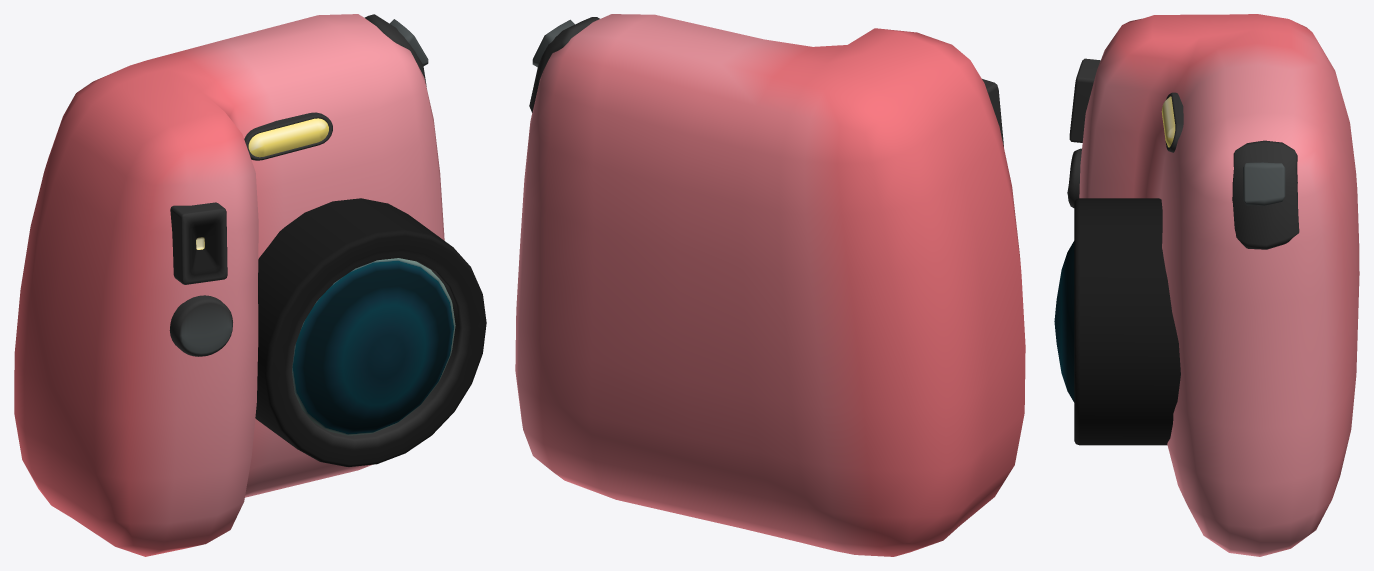
File: camera.fbx
3 views of the same model, side by side, from view 1: azimuth 30°, elevation 25°; view 2: azimuth 150°, elevation 25°; view 3: azimuth 270°, elevation 25° (orthographic). The views are drawn at different scales.
Visible parts, largest first — view 1: camera; view 2: camera; view 3: camera.
Part boxes in pixels (x1,y1,x2,y2): camera: [14, 14, 486, 556]; camera: [515, 14, 1025, 556]; camera: [1054, 14, 1359, 556].
Size of the model in its own units: 0.9788 by 0.9968 by 0.6465.
